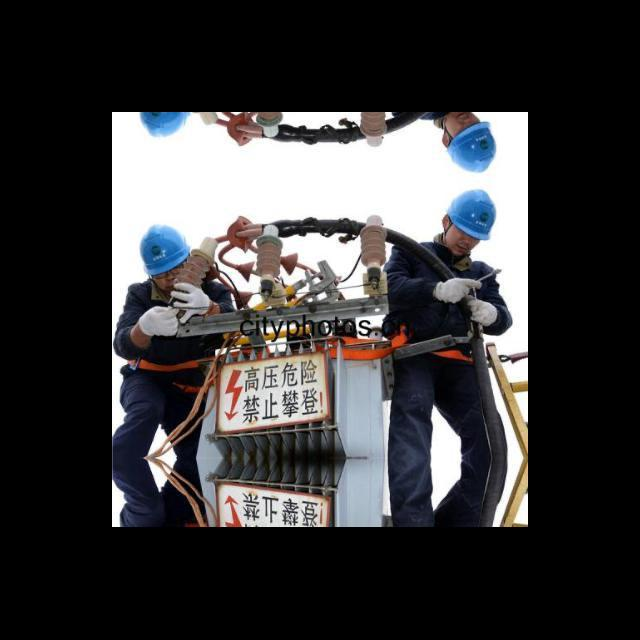Gloves: (169, 282, 212, 324), (139, 306, 180, 335), (434, 278, 481, 303), (470, 300, 498, 328)
Hardhat: (444, 189, 497, 241), (140, 223, 191, 274), (448, 120, 496, 173), (139, 113, 191, 139)
NO-Mask: (449, 240, 472, 256), (447, 112, 473, 125), (163, 280, 174, 295)
NO-Safety Vest: (401, 245, 483, 364), (133, 285, 224, 377)
Person: (380, 188, 512, 523), (112, 224, 235, 471), (425, 114, 495, 175)
